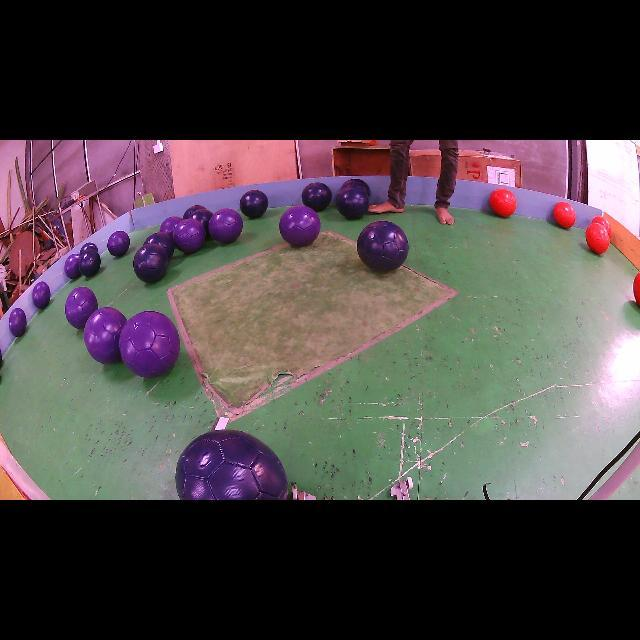B: (175, 430, 288, 500), (356, 221, 409, 271), (132, 244, 169, 282), (335, 186, 369, 219), (301, 182, 332, 211), (144, 232, 175, 260), (240, 190, 269, 219), (79, 250, 101, 278), (191, 209, 212, 237), (340, 179, 370, 196), (182, 205, 205, 219), (79, 242, 99, 256)
P: (119, 311, 180, 378), (84, 308, 126, 364), (280, 206, 320, 246), (65, 286, 98, 329), (172, 219, 205, 254), (209, 209, 242, 244), (108, 230, 130, 256), (32, 281, 50, 309), (9, 308, 26, 336), (160, 216, 182, 236), (64, 254, 81, 279)
R: (586, 222, 610, 254), (490, 188, 516, 216), (554, 201, 576, 229), (592, 216, 611, 237), (634, 272, 640, 306)
